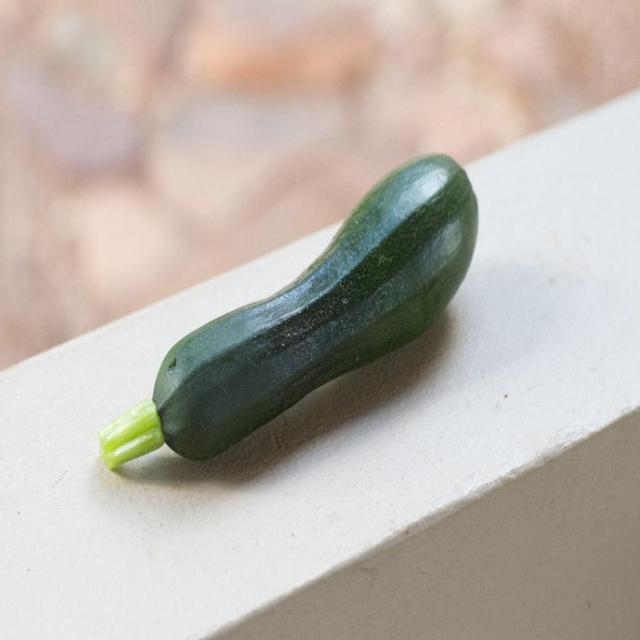Zucchini: (100, 138, 487, 474)
